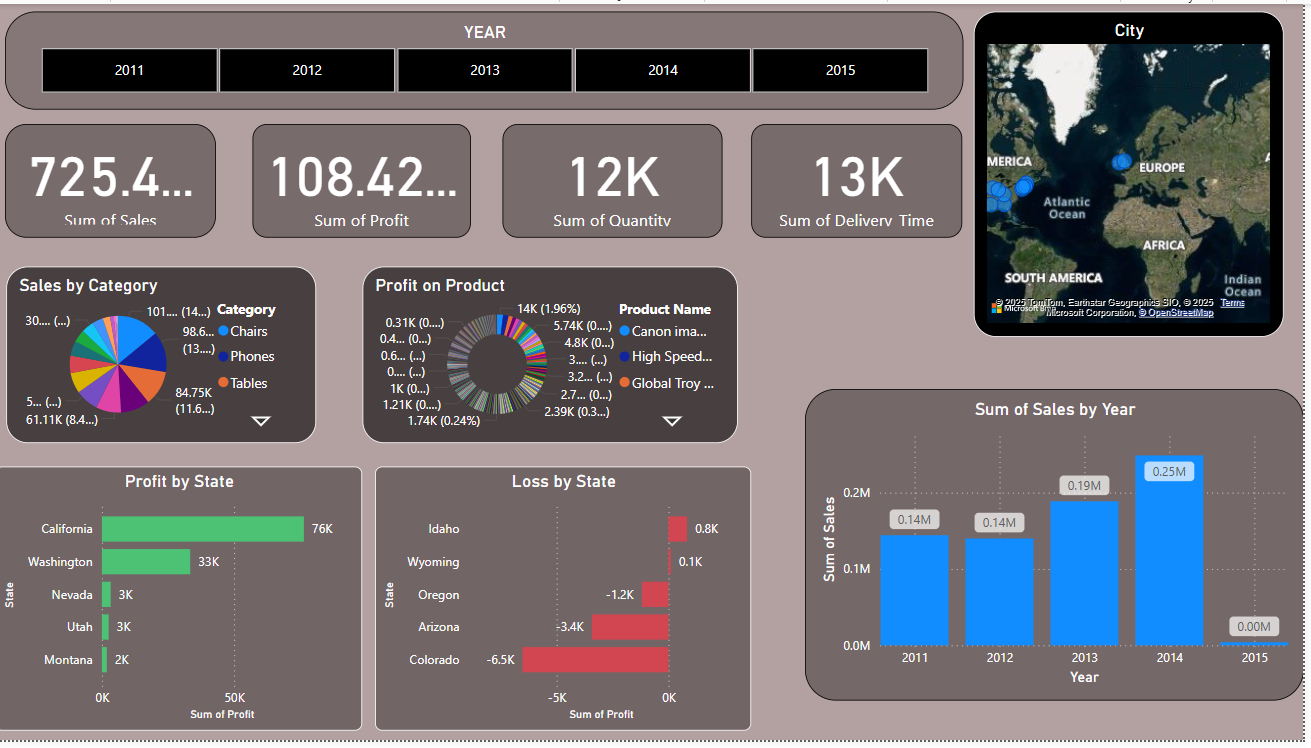

The page's visual inventory and layout, read from the dashboard file:
{"tool":"powerbi","page":{"name":"WALLMART DASHBOARD","canvas":[1280,720],"ordinal":0},"visuals":[{"type":"map","fields":{"Category":["Walmart.City"]},"box":[957.8,6.9,303.3,318.4],"z":0},{"type":"slicer","title":"YEAR","fields":{"Values":["Walmart.Year"]},"box":[9.6,6.9,937.2,96.1],"z":1000},{"type":"barChart","title":" Profit by State","fields":{"Y":["Sum(Walmart.Profit)"],"Category":["Walmart.State"]},"box":[0,452.4,359.5,258],"z":2000},{"type":"barChart","title":" Loss by State","fields":{"Y":["Sum(Walmart.Profit)"],"Category":["Walmart.State"]},"box":[371.7,452.4,368.1,258],"z":3000},{"type":"card","fields":{"Values":["Sum(Walmart.Sales)"]},"box":[9.8,117.4,206.7,111.3],"z":4000},{"type":"card","fields":{"Values":["Sum(Walmart.Profit)"]},"box":[251.9,117.4,214,111.3],"z":5000},{"type":"card","fields":{"Values":["Sum(Walmart.Quantity)"]},"box":[496.5,117.4,215.2,111.3],"z":6000},{"type":"pieChart","title":" Sales by Category","fields":{"Category":["Walmart.Category"],"Y":["Sum(Walmart.Sales)"]},"box":[11,256.8,303.3,172.4],"z":7000},{"type":"card","fields":{"Values":["Sum(Walmart.Delivery_Time)"]},"box":[739.8,117.4,206.7,111.3],"z":8000},{"type":"donutChart","title":"Profit on Product","fields":{"Category":["Walmart.Product Name"],"Y":["Sum(Walmart.Sales)"]},"box":[359.5,256.8,303.3,172.4],"z":9000},{"type":"lineStackedColumnComboChart","fields":{"Category":["Walmart.Year"],"Y":["Sum(Walmart.Sales)"]},"box":[792.4,376.6,487.9,304.5],"z":10000}]}

Visuals, with their boxes in screenshot pixels (x1, y1, x2, y2), scaled from the page's 1280x720 canvas onto the 1311x748 screenshot:
map - Walmart.City: <box>981,7,1292,338</box>
"YEAR" slicer: <box>10,7,970,107</box>
" Profit by State" barChart: <box>0,470,368,738</box>
" Loss by State" barChart: <box>381,470,758,738</box>
card - Sum(Walmart.Sales): <box>10,122,222,238</box>
card - Sum(Walmart.Profit): <box>258,122,477,238</box>
card - Sum(Walmart.Quantity): <box>509,122,729,238</box>
" Sales by Category" pieChart: <box>11,267,322,446</box>
card - Sum(Walmart.Delivery_Time): <box>758,122,969,238</box>
"Profit on Product" donutChart: <box>368,267,679,446</box>
lineStackedColumnComboChart - Walmart.Year x Sum(Walmart.Sales): <box>812,391,1310,708</box>
